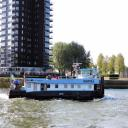tugboat: (9, 63, 107, 103)
